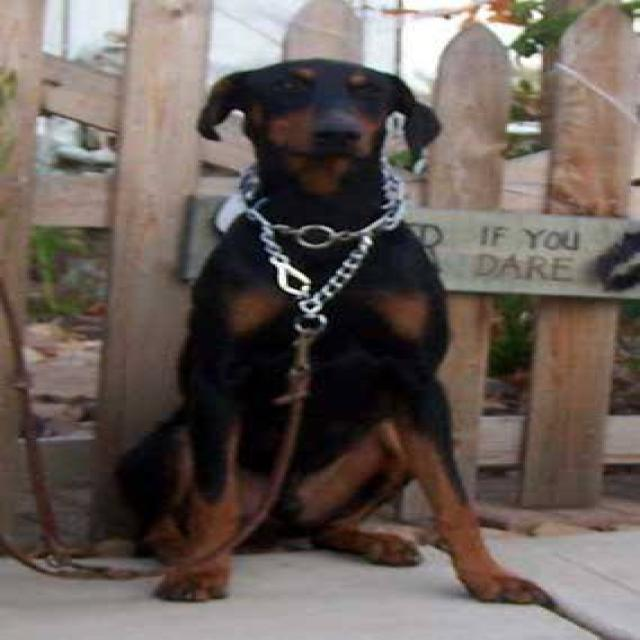cat: (86, 30, 582, 626)
